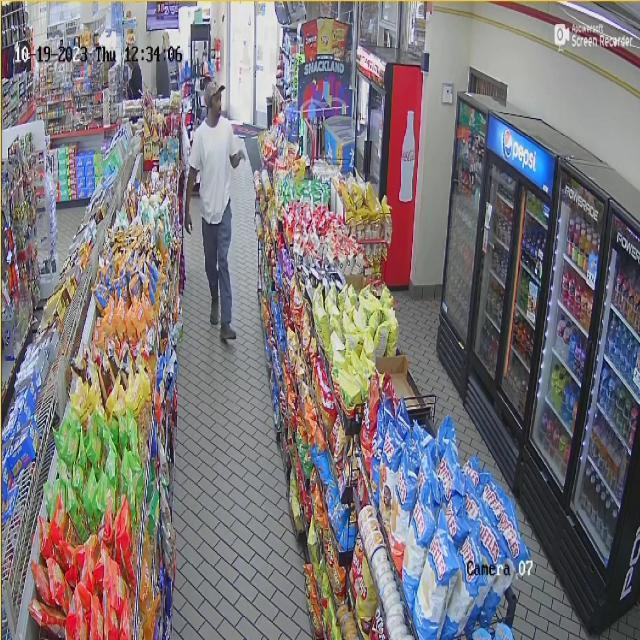normal: (175, 63, 254, 353)
